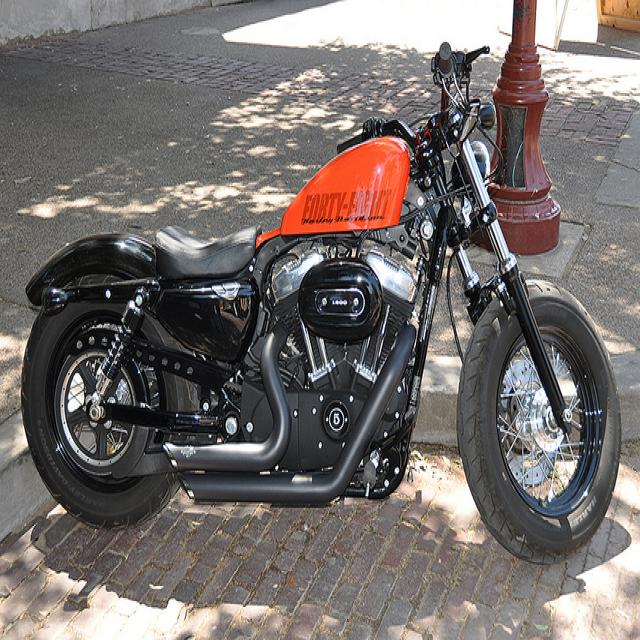motor: (22, 43, 620, 564)
